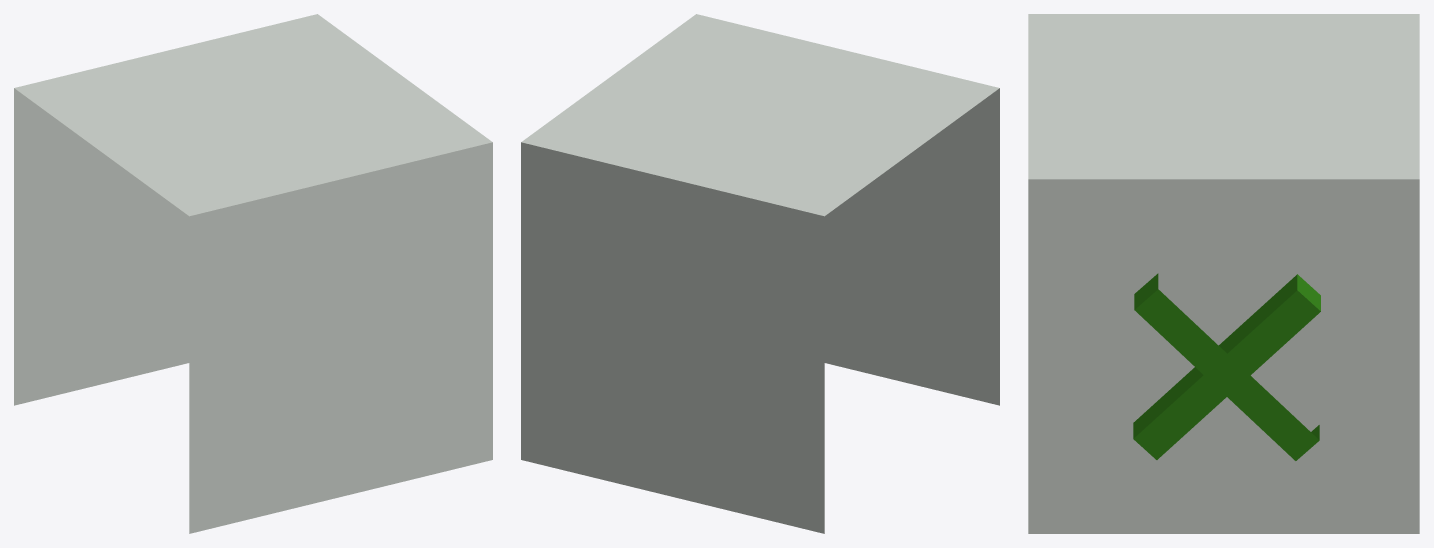
File: tile_bola.fbx
3 renders of one model, left to right at view 1: azimuth 30°, elevation 25°; view 2: azimuth 150°, elevation 25°; view 3: azimuth 270°, elevation 25°, orthographic. The views are drawn at different scales.
Parts seen in each view (by area): view 1: Cubo.004; view 2: Cubo.004; view 3: Cubo.004, Cubo.005, Cubo.006.
Boxes of the visible parts, x1,y1,x2,y2 form: Cubo.004: (14,14,492,533); Cubo.004: (521,14,999,533); Cubo.004: (1028,14,1419,533); Cubo.005: (1133,274,1320,459); Cubo.006: (1134,273,1319,460).
Bounding box in the file's own units: 220 × 200 × 200.
